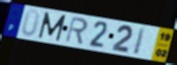0: (20, 8, 41, 38)
2: (110, 25, 134, 55), (88, 20, 109, 50)
I: (131, 26, 147, 56)
M: (37, 11, 67, 42)
R: (64, 17, 89, 46)
